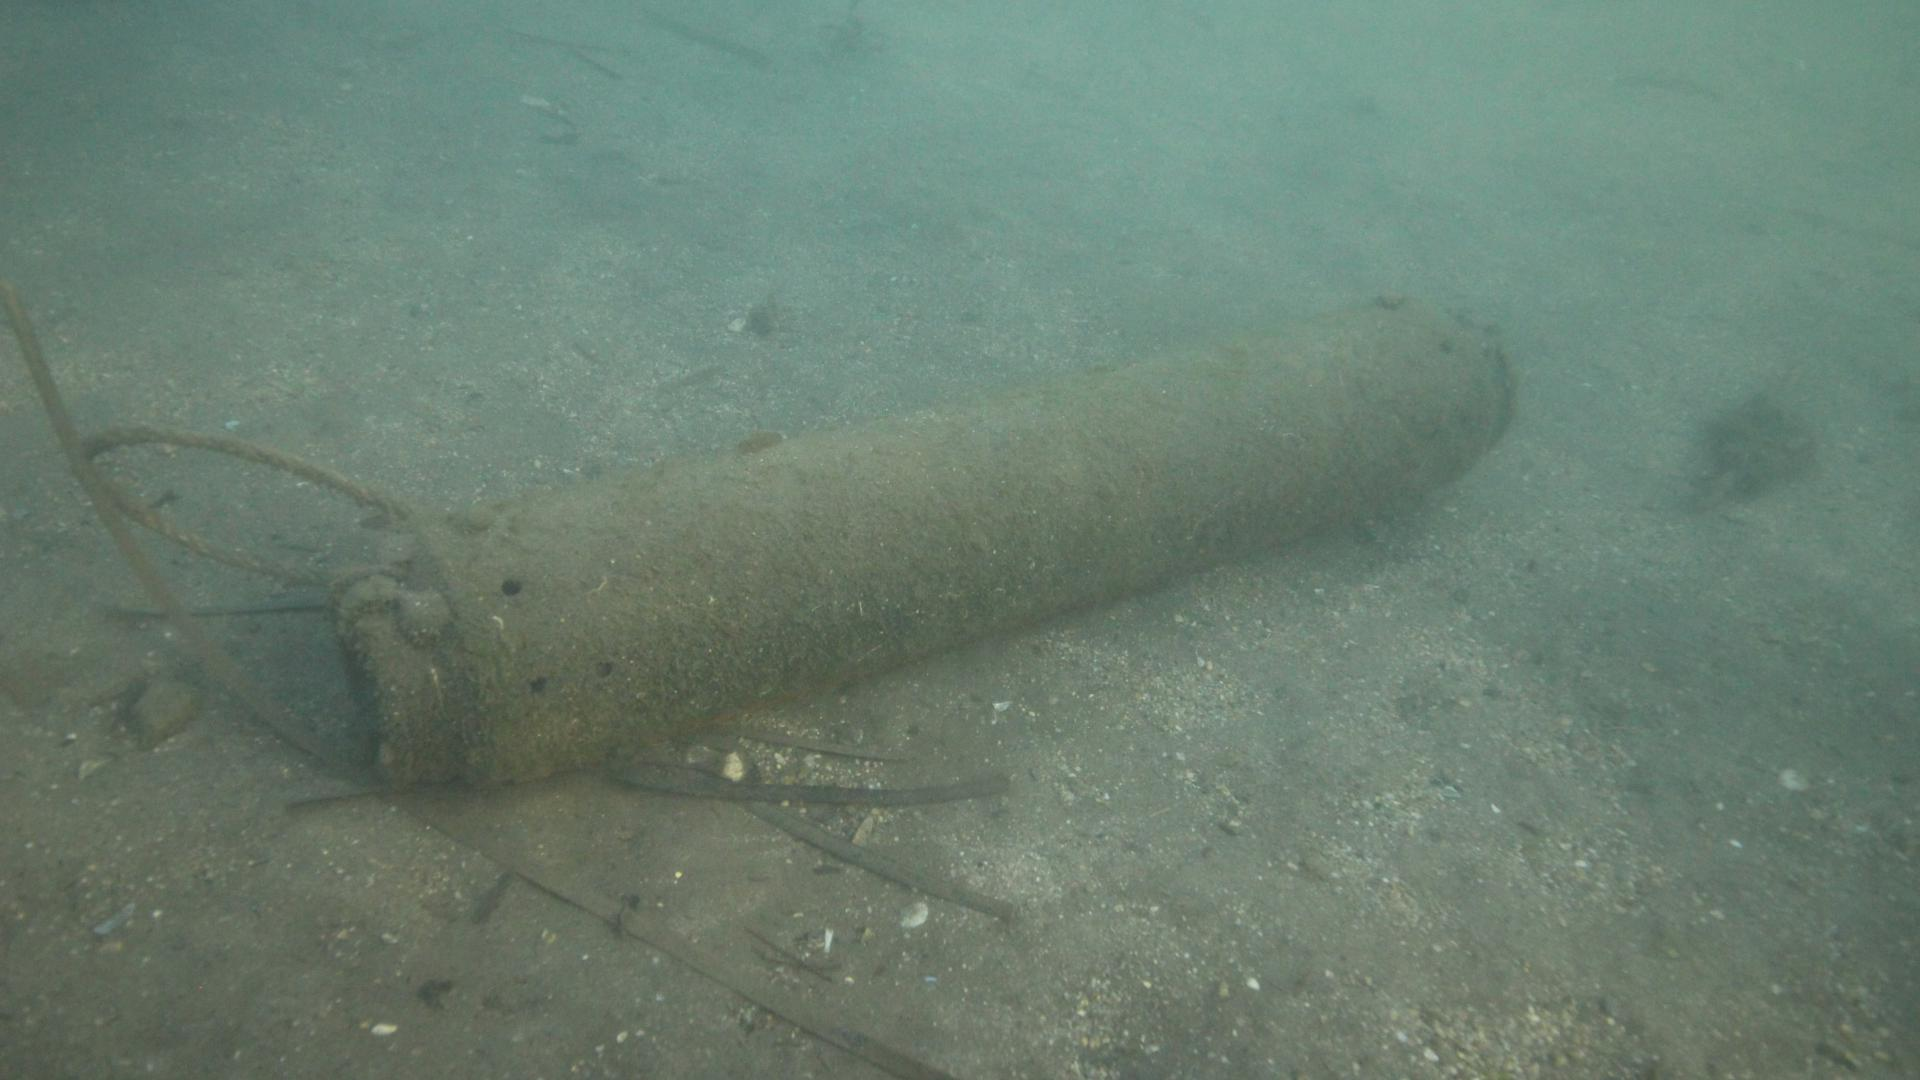eel fish trap: (336, 299, 1519, 787)
rope: (79, 421, 419, 585)
